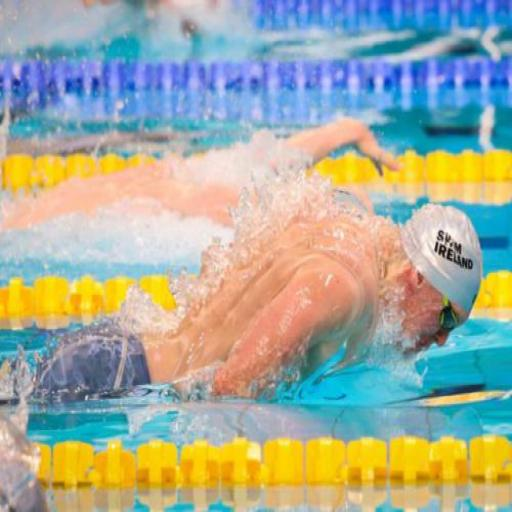swimming: (48, 137, 482, 474)
